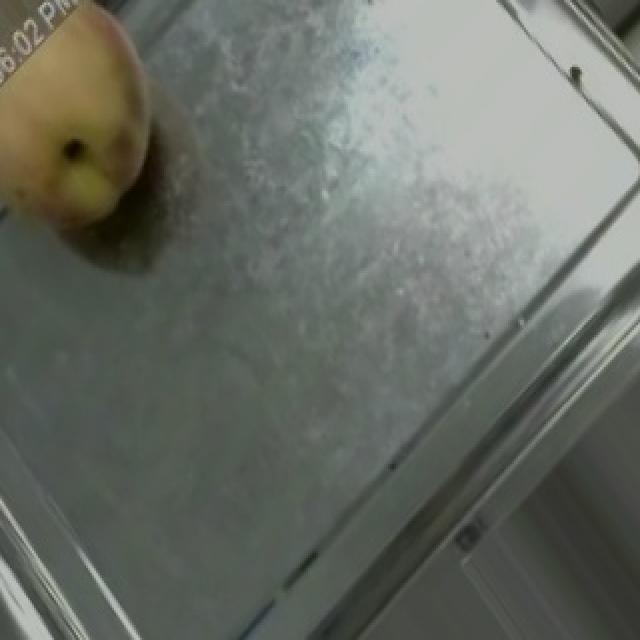Fruit: (0, 0, 190, 260)
